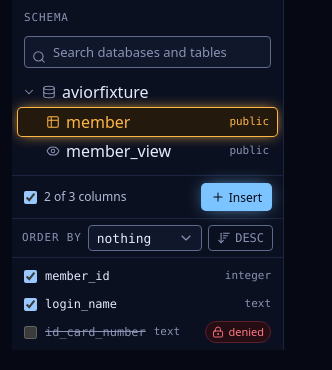
it: SchemaTree › ordering › marks which of the columns are dates
Focus the dropdown with id "order-column" at (145, 238), box [88,225,202,251]
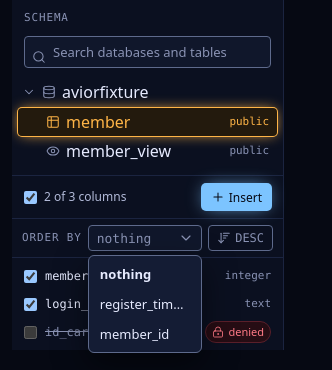
Check: the elements with class "option" read "nothing", "register_time · date", "member_id", in this order, box [100,265,151,283]; [100,295,202,313]; [100,325,169,343]
